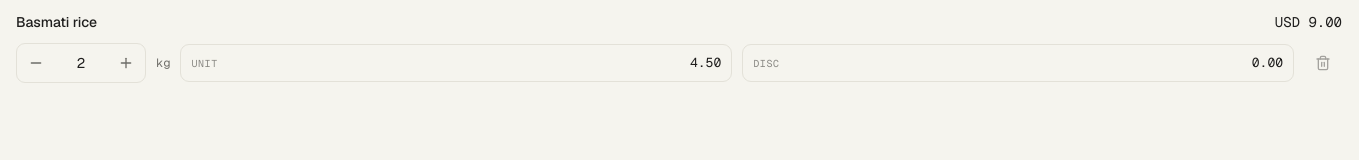
Scenario: CartLineRow — price and discount › settles a price at two decimals on blur
Step 1. Replace the text in the field named "unit price" with "4.5" → (474, 63), box [226,53,721,73]
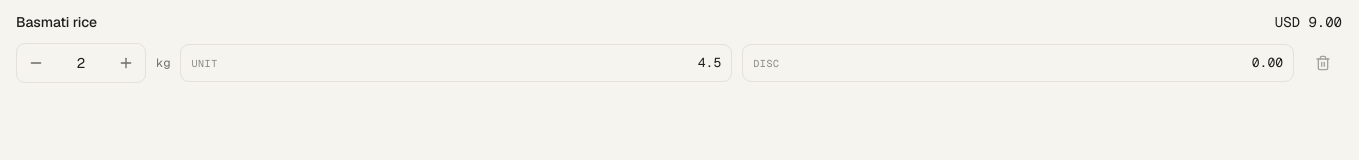
Step 2. Press Tab
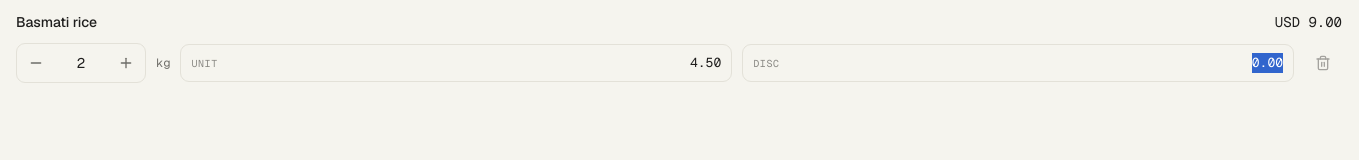
Expected: the field named "unit price" holds "4.50", [226,53,721,73]
